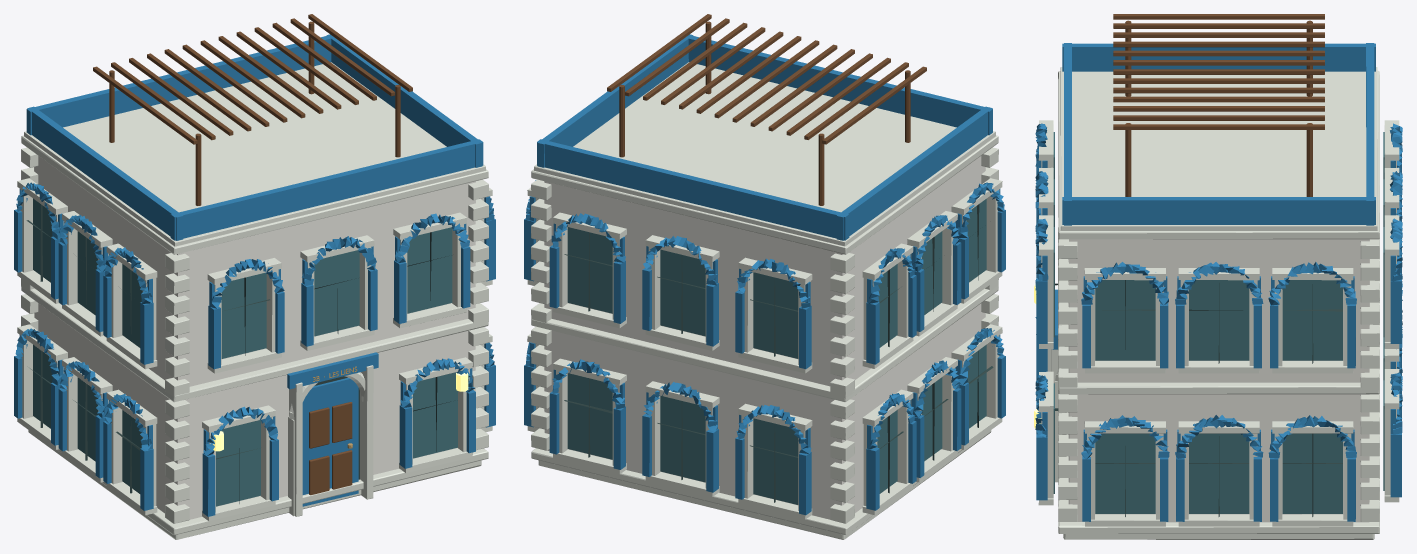
File: tunisie-2-lod.glb
3 views of the same model, side by side, from view 1: azimuth 30°, elevation 25°; view 2: azimuth 150°, elevation 25°; view 3: azimuth 270°, elevation 25° (orthographic). The views are drawn at different scales.
Parts seen in each view (by area): view 1: tunisie-2_Dressed stone.001, tunisie-2_Regional painted wood.001, tunisie-2_Masonry plaster.001, tunisie-2_Window blue.001, tunisie-2_Walnut.001, tunisie-2_Forged midnight.001; view 2: tunisie-2_Dressed stone.001, tunisie-2_Regional painted wood.001, tunisie-2_Masonry plaster.001, tunisie-2_Window blue.001, tunisie-2_Walnut.001, tunisie-2_Forged midnight.001; view 3: tunisie-2_Dressed stone.001, tunisie-2_Regional painted wood.001, tunisie-2_Window blue.001, tunisie-2_Masonry plaster.001, tunisie-2_Walnut.001, tunisie-2_Forged midnight.001.
Part boxes in pixels (x1=…): tunisie-2_Dressed stone.001: x1=17, y1=62, x2=492, y2=539; tunisie-2_Regional painted wood.001: x1=14, y1=34, x2=495, y2=516; tunisie-2_Masonry plaster.001: x1=34, y1=156, x2=475, y2=519; tunisie-2_Window blue.001: x1=33, y1=198, x2=457, y2=506; tunisie-2_Walnut.001: x1=93, y1=14, x2=412, y2=495; tunisie-2_Forged midnight.001: x1=26, y1=204, x2=450, y2=503; tunisie-2_Dressed stone.001: x1=527, y1=62, x2=1002, y2=539; tunisie-2_Regional painted wood.001: x1=524, y1=34, x2=1005, y2=515; tunisie-2_Masonry plaster.001: x1=544, y1=156, x2=985, y2=519; tunisie-2_Window blue.001: x1=567, y1=199, x2=986, y2=504; tunisie-2_Walnut.001: x1=607, y1=14, x2=926, y2=205; tunisie-2_Forged midnight.001: x1=564, y1=204, x2=993, y2=502; tunisie-2_Dressed stone.001: x1=1038, y1=67, x2=1399, y2=539; tunisie-2_Regional painted wood.001: x1=1035, y1=43, x2=1402, y2=521; tunisie-2_Window blue.001: x1=1053, y1=132, x2=1384, y2=513; tunisie-2_Masonry plaster.001: x1=1068, y1=239, x2=1369, y2=522; tunisie-2_Walnut.001: x1=1113, y1=14, x2=1324, y2=196; tunisie-2_Forged midnight.001: x1=1055, y1=280, x2=1342, y2=516.
Size of the model in its own units: 14.2 by 14.26 by 12.2.
